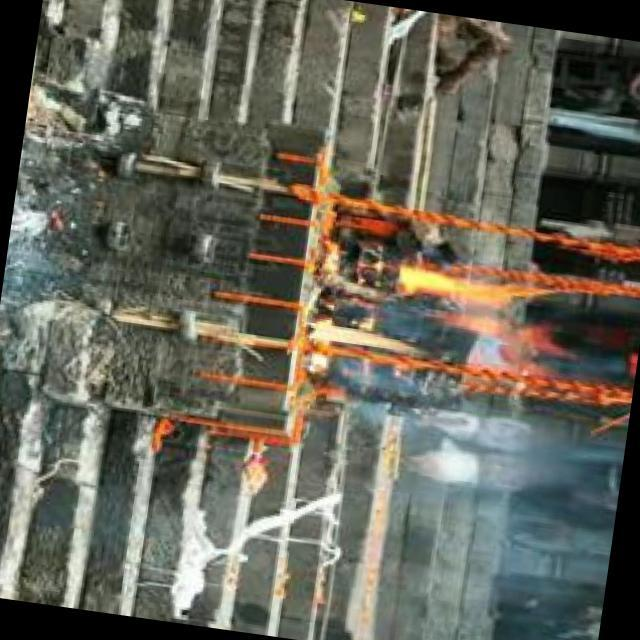Fire: (302, 251, 571, 410)
